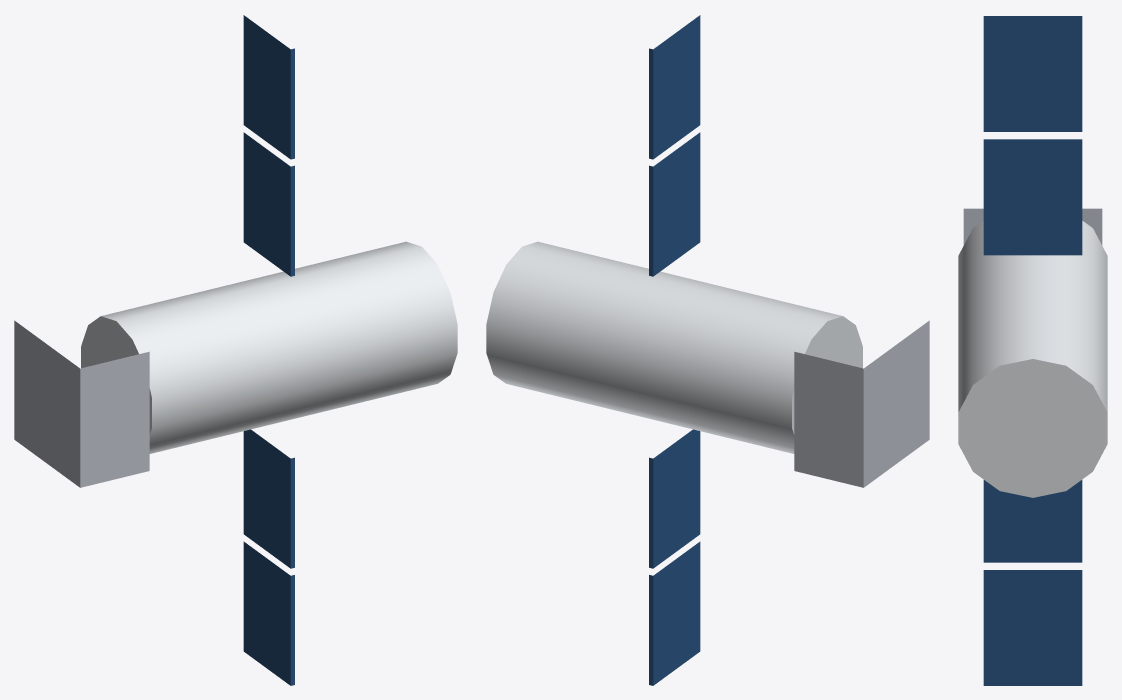
The picture shows the model from 3 angles, left to right: view 1: azimuth 30°, elevation 25°; view 2: azimuth 150°, elevation 25°; view 3: azimuth 270°, elevation 25°; orthographic projection. The views are drawn at different scales.
Size of the model in its own units: 9.2 by 14.94 by 3.02.
